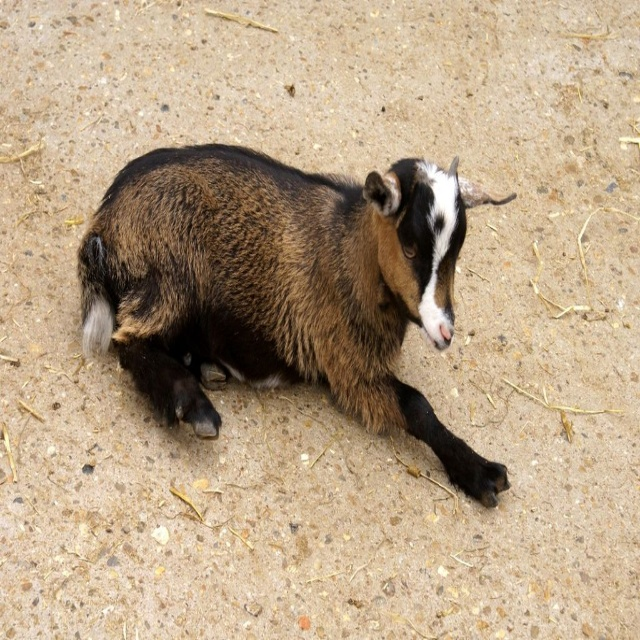Goat: (77, 156, 518, 509)
